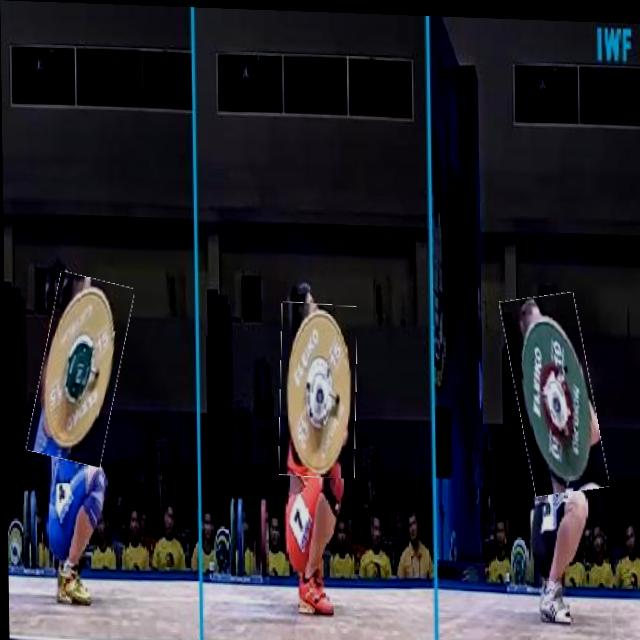barbell: (507, 289, 601, 493), (32, 274, 127, 466), (278, 301, 358, 477)
